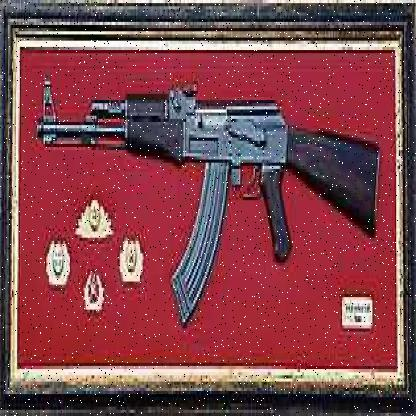rifle: (35, 63, 389, 310)
